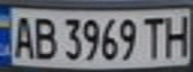3: (57, 15, 81, 61)
6: (100, 15, 121, 62)
9: (115, 15, 142, 62), (78, 15, 103, 62)
A: (9, 12, 39, 60)
B: (30, 14, 60, 61)
H: (160, 11, 193, 58)
T: (139, 13, 169, 60)
